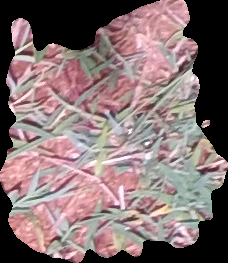grass: (1, 2, 226, 261)
